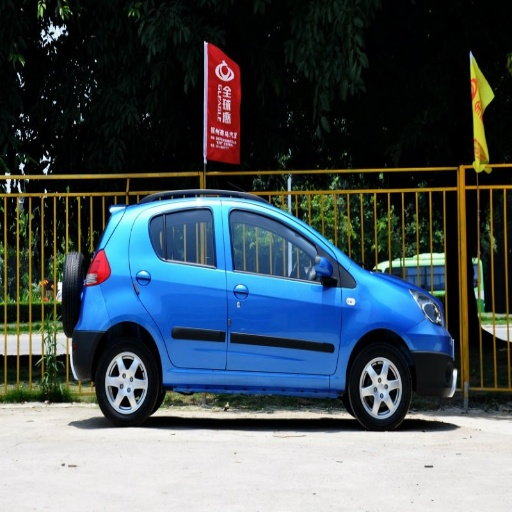back_right_door: (133, 203, 227, 372)
front_right_door: (222, 203, 340, 385)
